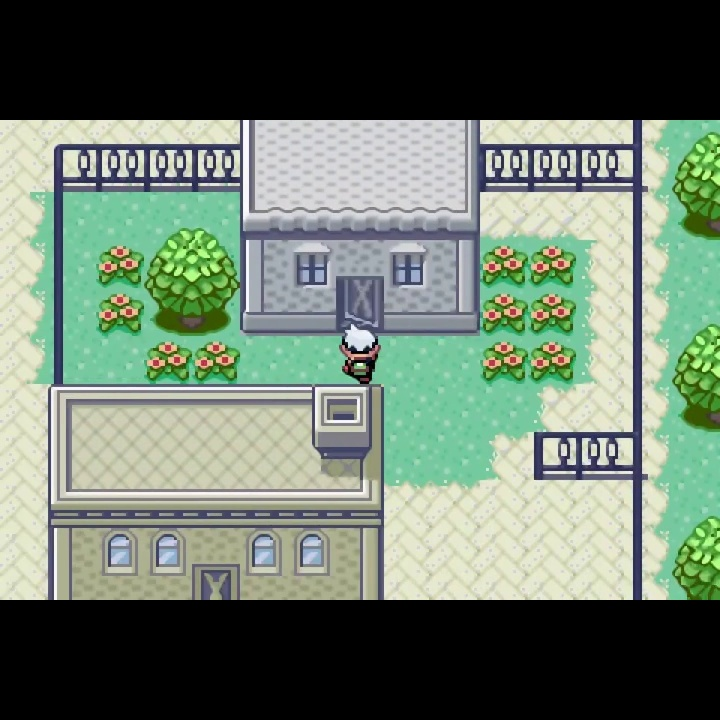house: (43, 383, 386, 600), (238, 120, 481, 335)
npc: (337, 323, 382, 384)
wall: (145, 227, 240, 338), (671, 130, 720, 242), (671, 323, 720, 434), (672, 515, 720, 601)
